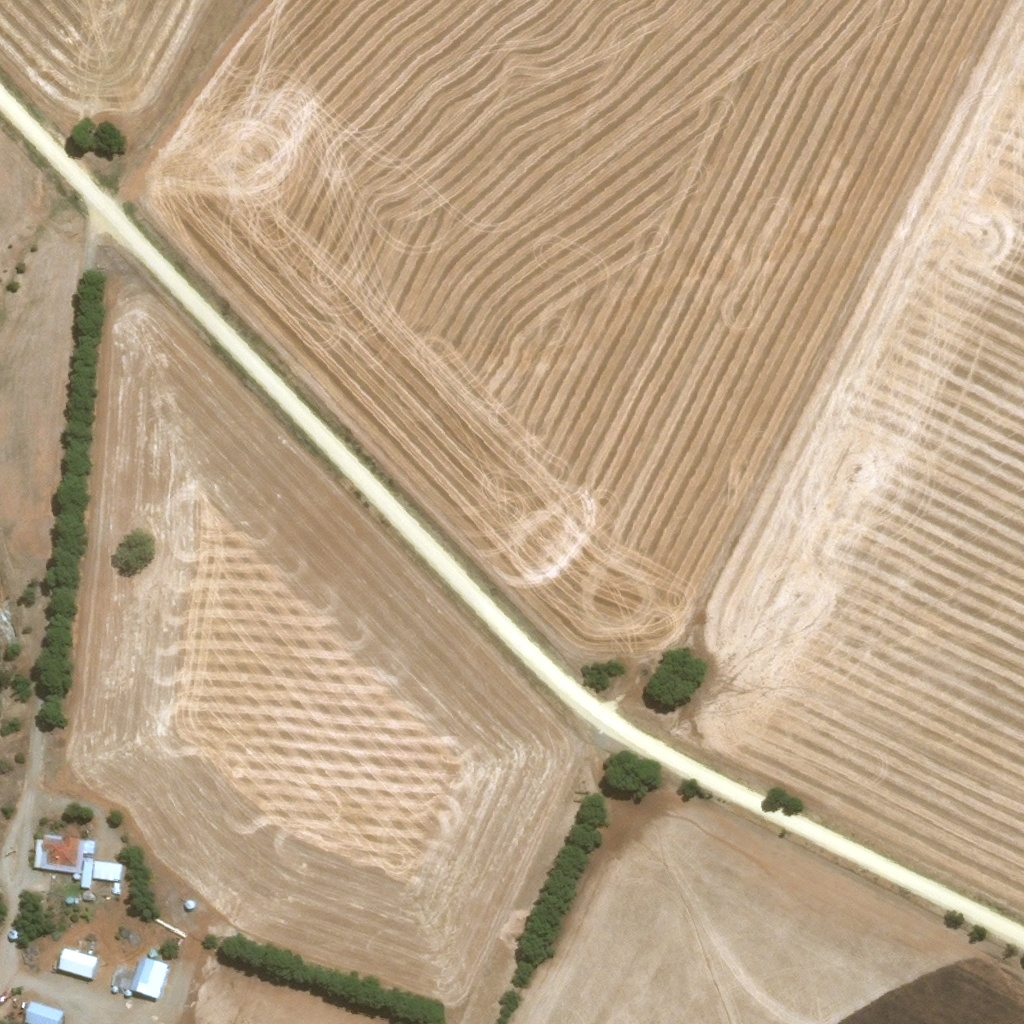0 no-damage: (33, 832, 84, 873), (57, 944, 99, 978), (136, 956, 168, 998), (21, 998, 64, 1023), (129, 954, 146, 993), (91, 860, 121, 882), (55, 967, 92, 984), (110, 965, 134, 989), (81, 857, 91, 888), (182, 898, 194, 913), (82, 889, 93, 901), (111, 882, 119, 895), (145, 948, 156, 957), (64, 896, 74, 905), (72, 872, 81, 881), (109, 985, 118, 993), (124, 989, 132, 996)
4 un-classified: (174, 882, 187, 897), (155, 901, 167, 913)
